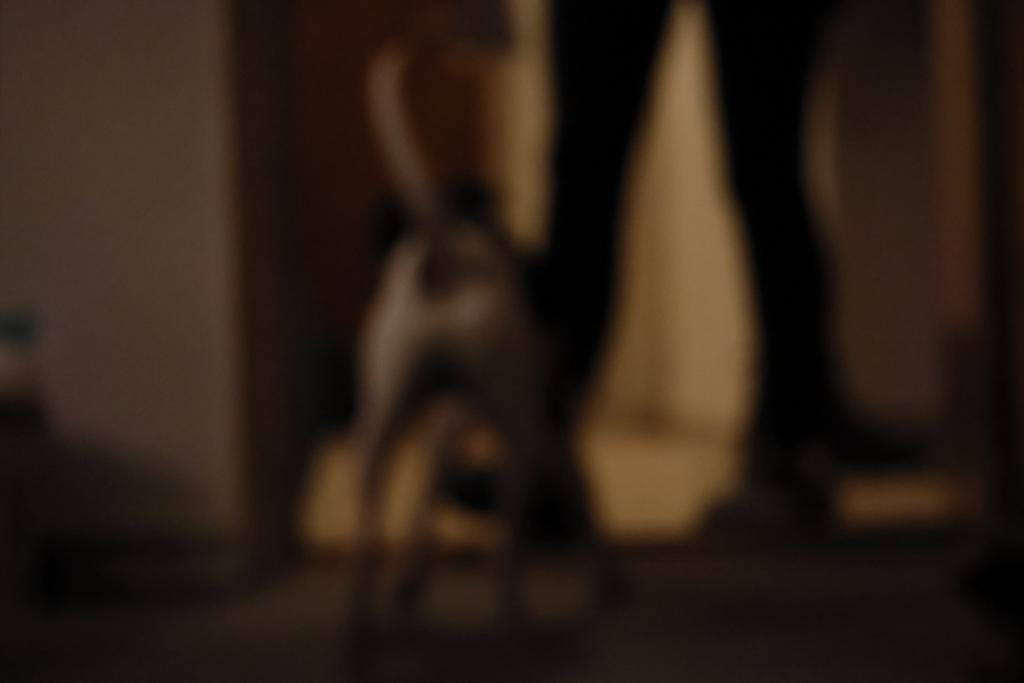Dog: (310, 21, 658, 668)
Humanoid: (482, 0, 865, 557)
